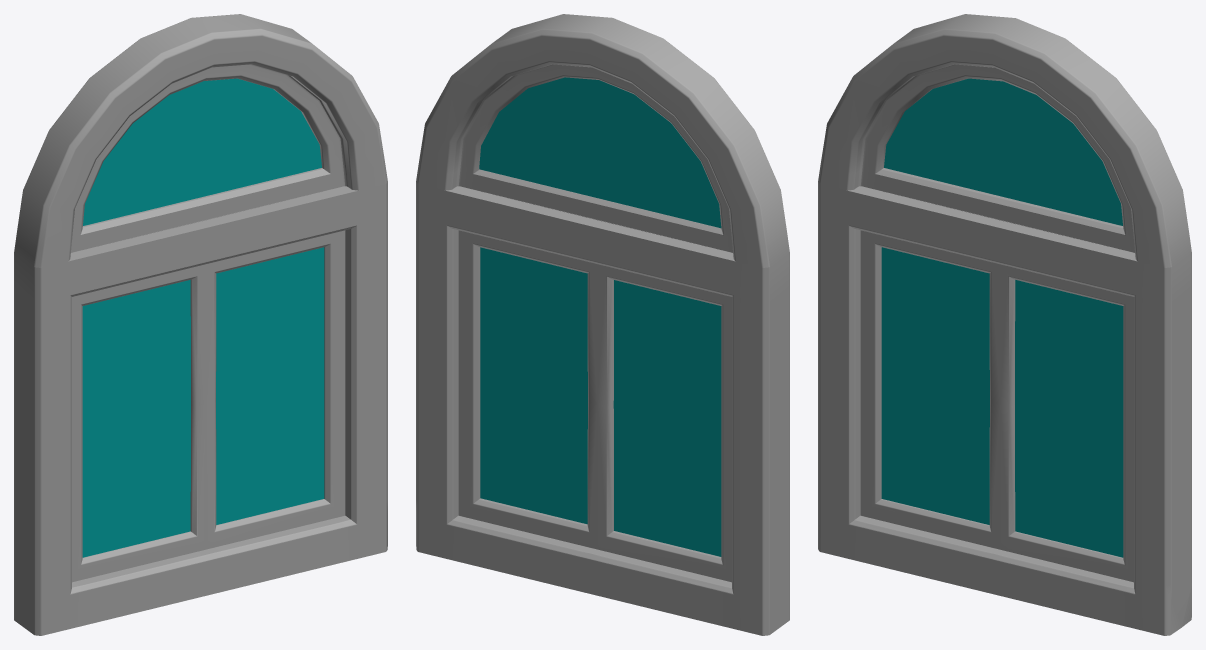
File: Mesh_EDH_Window1.fbx
3 renders of one model, left to right at view 1: azimuth 30°, elevation 25°; view 2: azimuth 150°, elevation 25°; view 3: azimuth 330°, elevation 25°, orthographic.
Visible parts, largest first — view 1: polySurface170; view 2: polySurface170; view 3: polySurface170.
Boxes of the visible parts, box(x1,y1,x2,y2) form: polySurface170: box(14, 14, 387, 635); polySurface170: box(416, 14, 789, 635); polySurface170: box(818, 14, 1191, 635).
Bounding box in the file's own units: 70.97 × 107 × 9.03.
